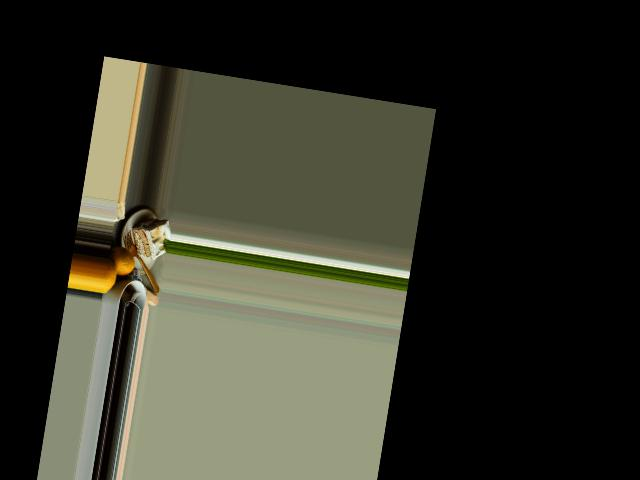lemon: (101, 257, 120, 296)
